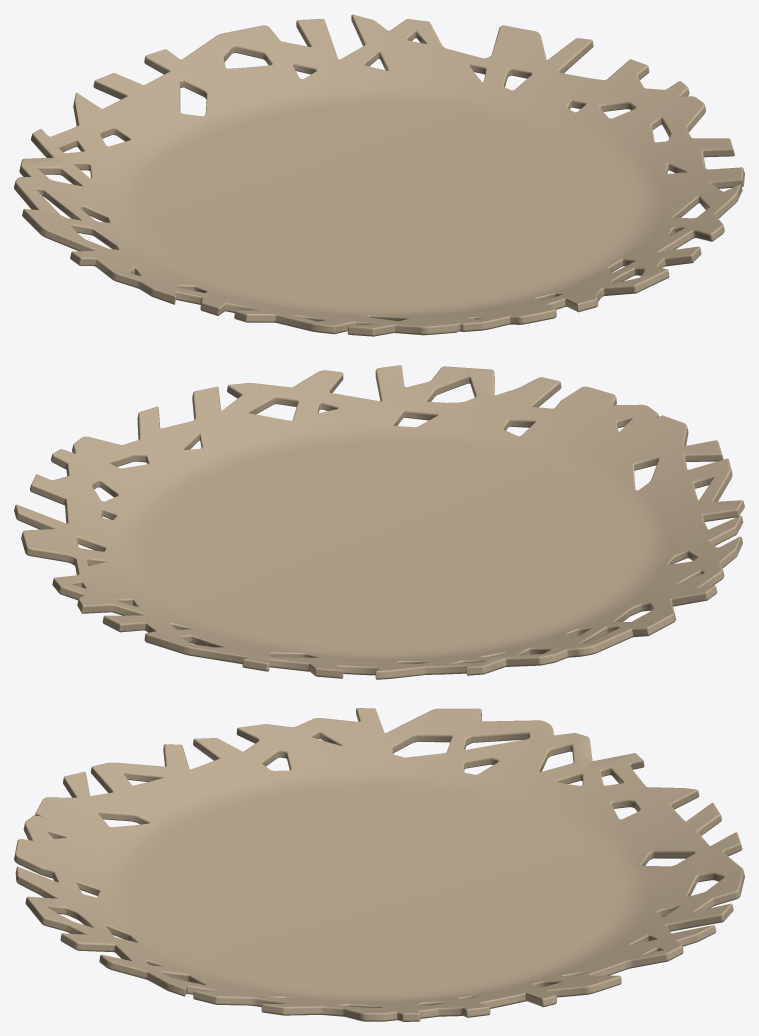
Rendered from smallaccents_cutaway_plate_main_fbx_upZ.fbx.
The picture shows the model from 3 angles, top to bottom: view 1: azimuth 30°, elevation 25°; view 2: azimuth 150°, elevation 25°; view 3: azimuth 270°, elevation 25°; orthographic projection.
Parts seen in each view (by area): view 1: smallaccents_cutaway_plate; view 2: smallaccents_cutaway_plate; view 3: smallaccents_cutaway_plate.
Part boxes in pixels (x1,y1,x2,y2): smallaccents_cutaway_plate: (14,14,744,336); smallaccents_cutaway_plate: (14,365,744,679); smallaccents_cutaway_plate: (14,708,744,1021).
Bounding box in the file's own units: 35.22 × 35.38 × 2.22.
